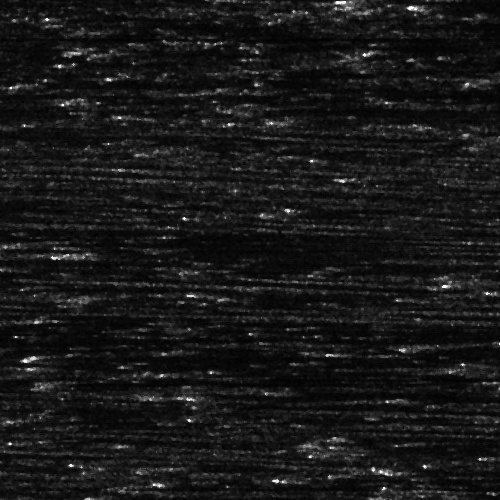object: (205, 201, 414, 216), (0, 234, 137, 249), (145, 389, 290, 400), (35, 247, 160, 256), (13, 377, 106, 384), (12, 363, 75, 368), (17, 353, 70, 358), (185, 375, 238, 380), (7, 79, 38, 84), (0, 357, 14, 366)
shadow: (43, 234, 295, 249), (97, 247, 435, 256), (218, 389, 481, 400), (310, 201, 487, 216), (0, 126, 154, 141), (60, 377, 315, 384), (0, 224, 164, 231), (0, 256, 116, 265), (0, 181, 130, 188), (212, 375, 387, 380), (44, 363, 128, 368), (44, 353, 128, 358), (23, 79, 102, 84), (0, 357, 35, 366)
